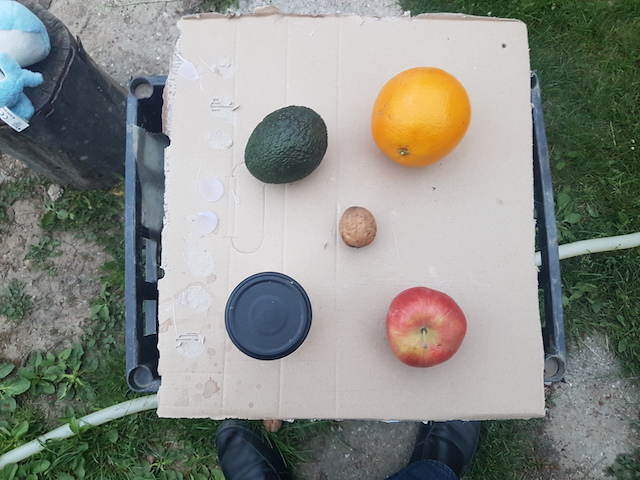apple: (385, 283, 468, 372)
avocado: (238, 104, 331, 189)
nut: (337, 204, 377, 248)
orange: (369, 65, 472, 167)
recipient: (220, 272, 309, 362)
